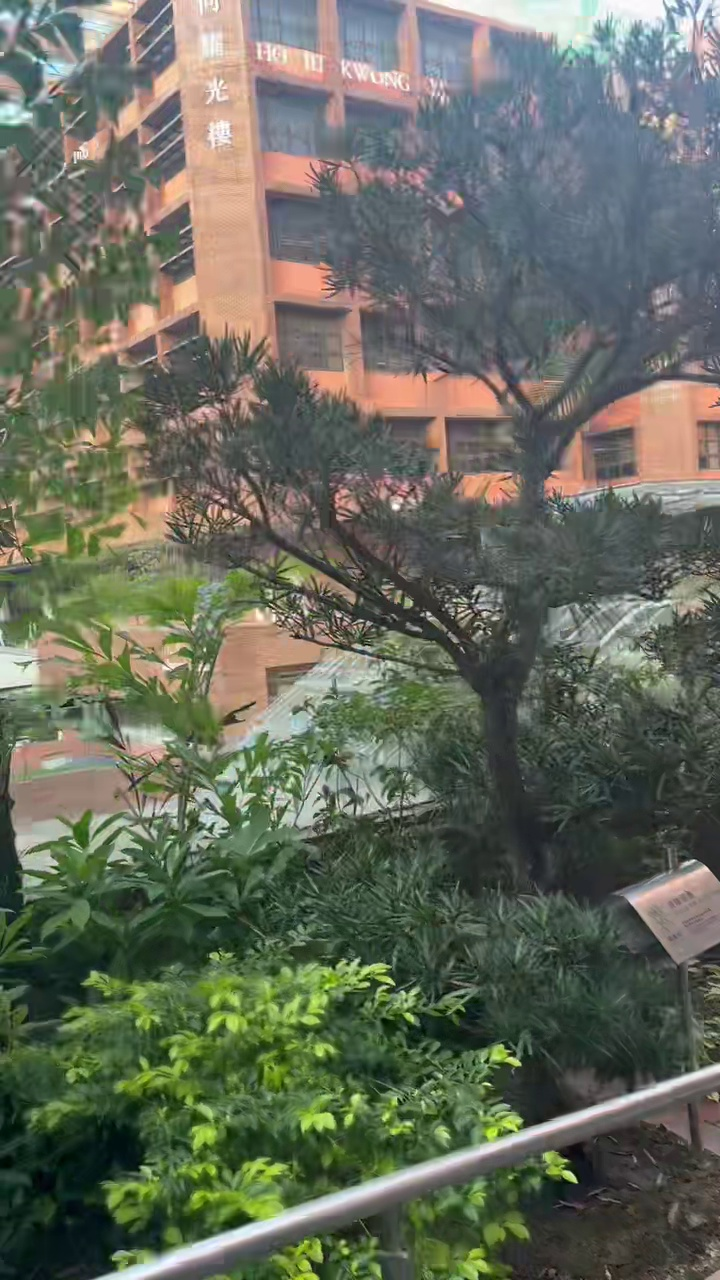Podocarpus macrophyllus: (145, 36, 719, 886)
